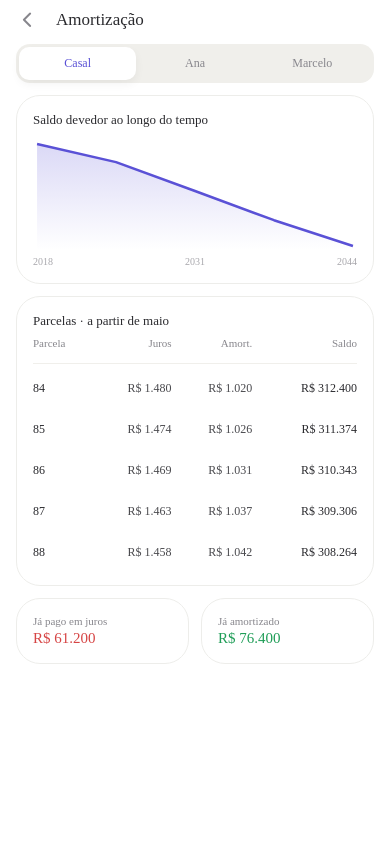
it: Financiamento · amortização › voltar para Casal restaura os valores cheios
This screenshot has width=390, height=844.
Click the text "Ana".
click(195, 64)  # box left=185, top=56, right=205, bottom=71
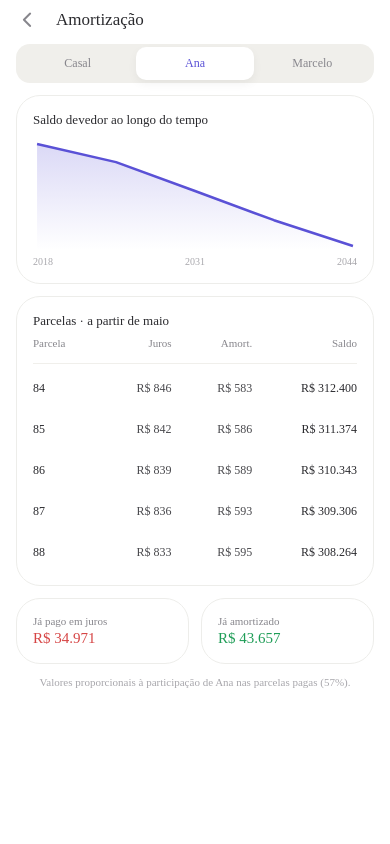
Expected: the text "R$ 34.971" is shown, left=33, top=630, right=96, bottom=646
Click the text "Casal".
click(78, 64)  # box left=64, top=56, right=91, bottom=71
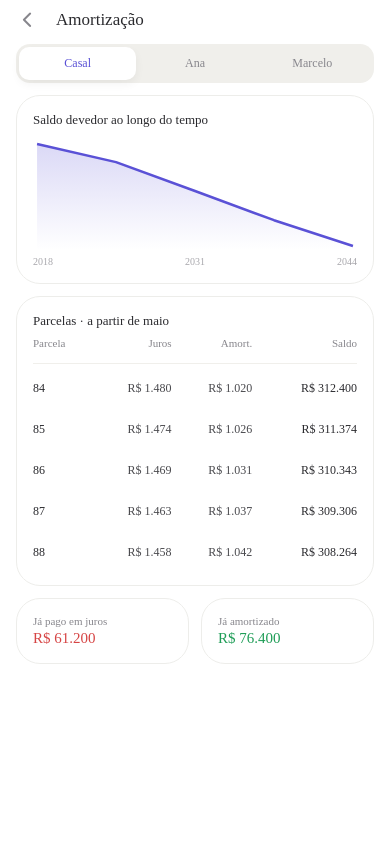
Expected: the text "R$ 61.200" is shown, left=33, top=630, right=96, bottom=646
